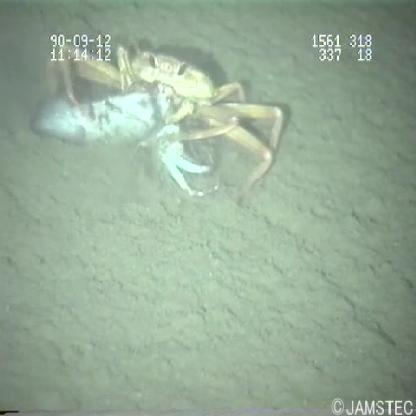Bio: (22, 39, 288, 201)
